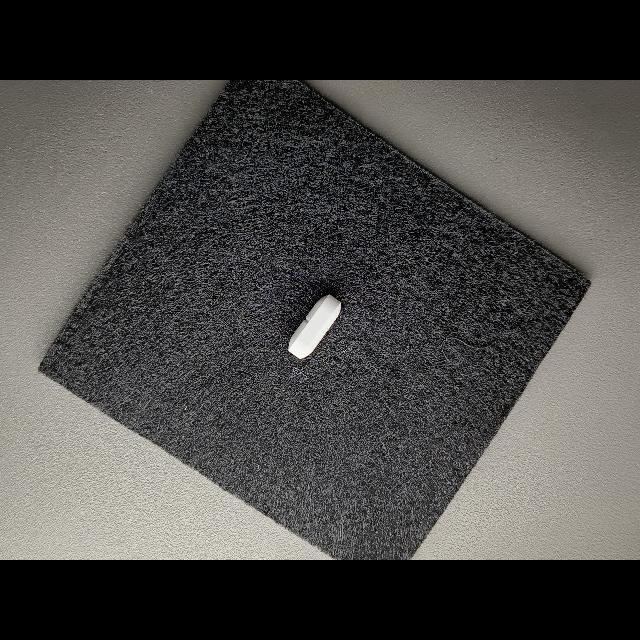Intact Pill: (288, 294, 341, 359)
